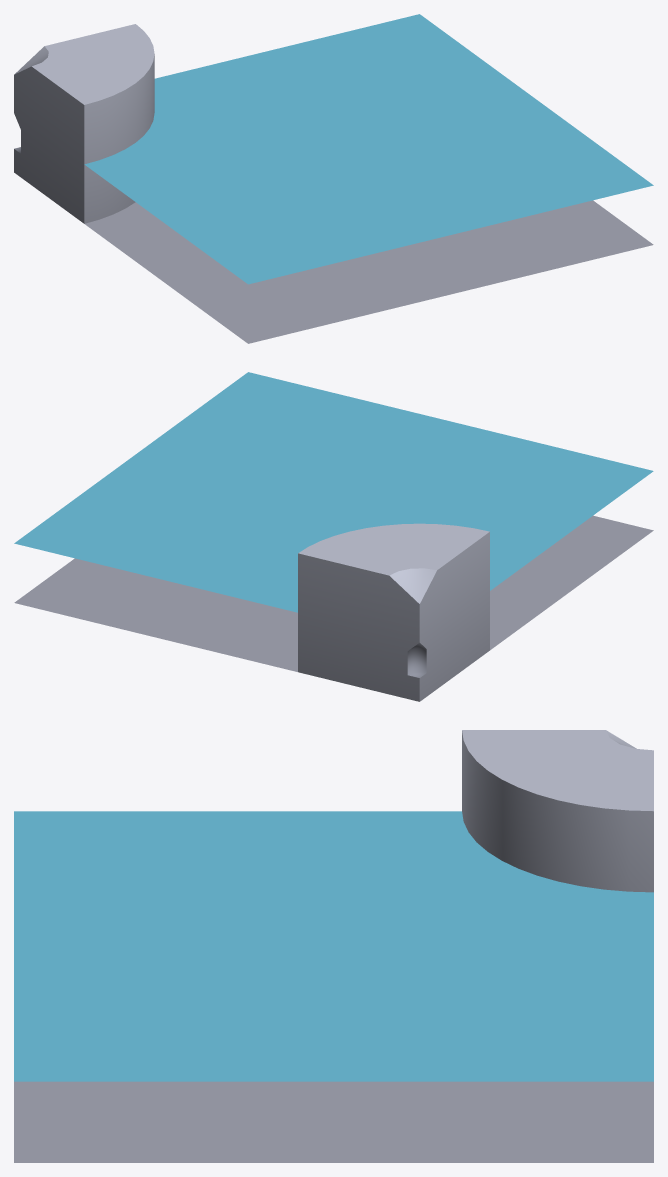
File: fountain-corner-inner.glb
3 views of the same model, one above another, from view 1: azimuth 30°, elevation 25°; view 2: azimuth 150°, elevation 25°; view 3: azimuth 270°, elevation 25° (orthographic). The views are drawn at different scales.
Parts seen in each view (by area): view 1: fountain-corner-inner; view 2: fountain-corner-inner; view 3: fountain-corner-inner.
Part boxes in pixels (x1=…): fountain-corner-inner: x1=14, y1=14, x2=653, y2=343; fountain-corner-inner: x1=14, y1=372, x2=653, y2=701; fountain-corner-inner: x1=14, y1=730, x2=653, y2=1162.
Size of the model in its own units: 1 by 0.28 by 1.
